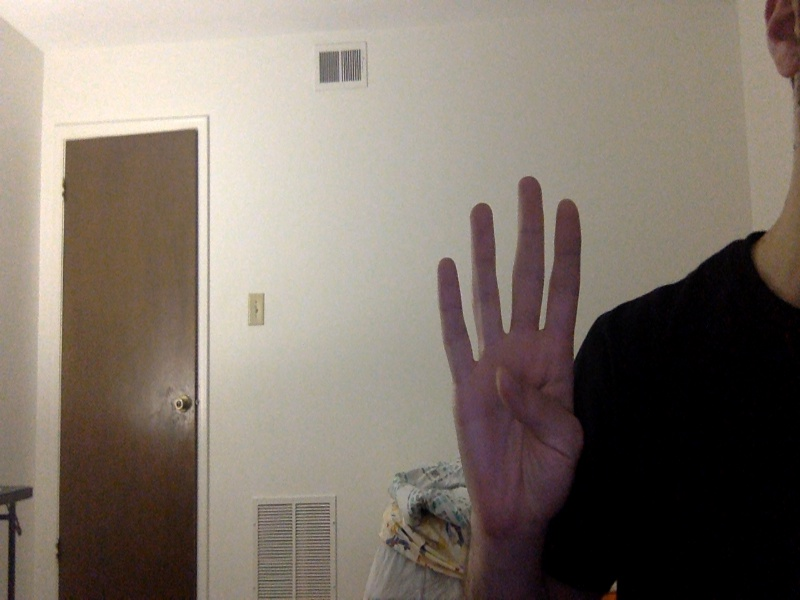4-hand: (436, 177, 584, 550)
